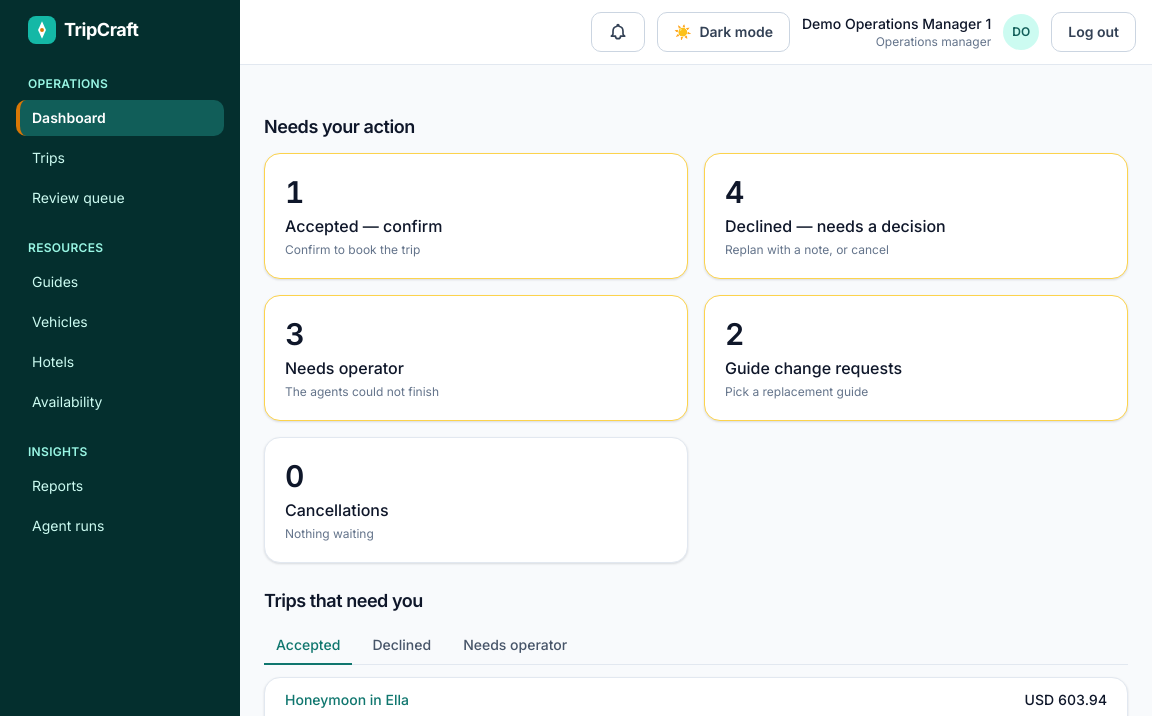
Test: Manager dashboard › opens the trips list filtered by status from the cancellations tile
Click the link with aria-label "Cancellations: 0": (337,510) [264,437,688,563]
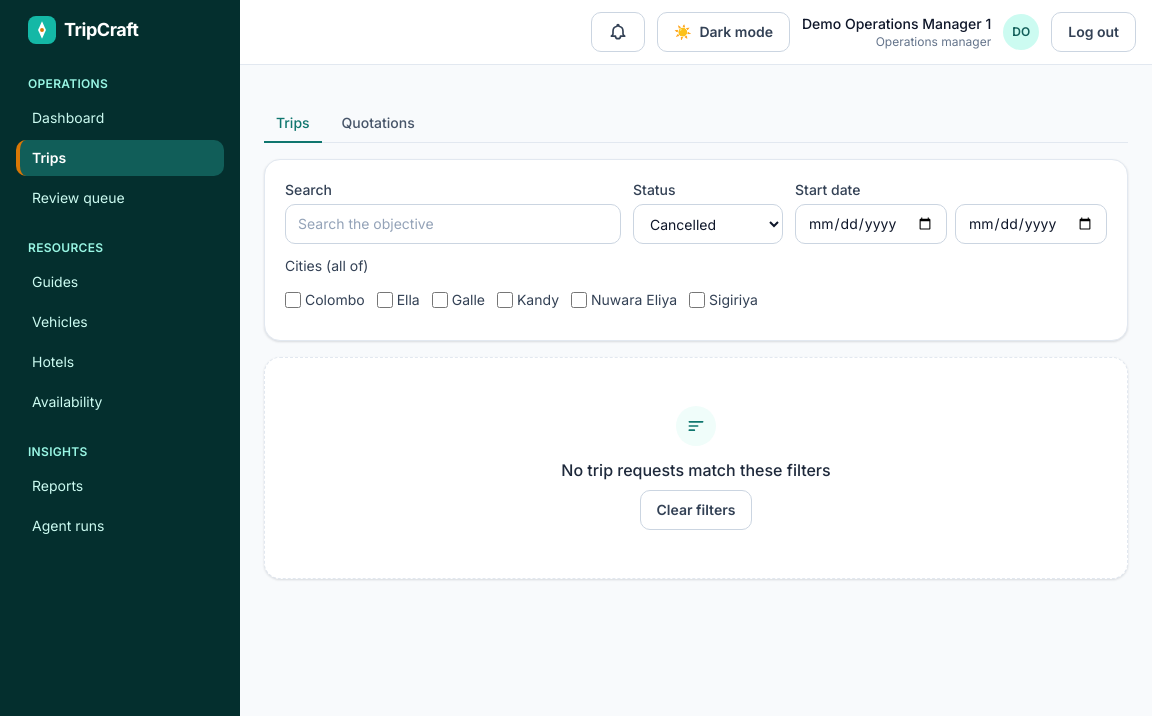
Check: the dropdown labelled "Status" shows "Cancelled", box [633,204,783,244]
